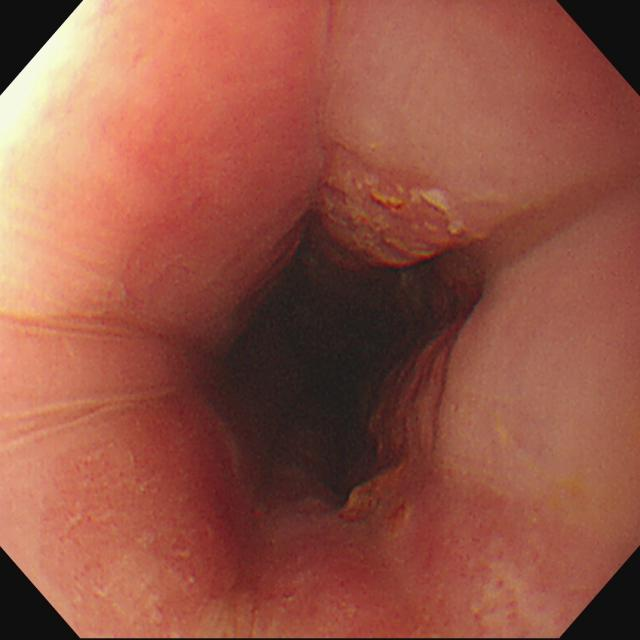A: (370, 322, 481, 461), (320, 169, 471, 268), (336, 461, 404, 530)
E: (277, 292, 368, 413)
J: (471, 552, 559, 640)
